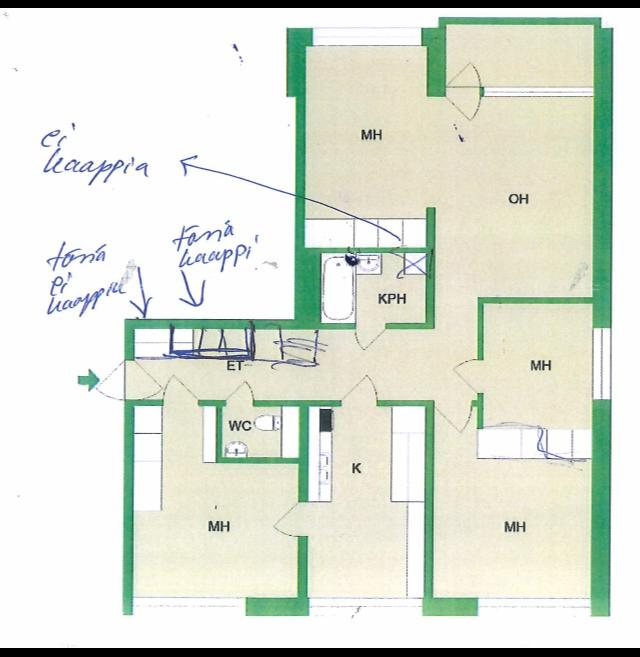bathroom: (318, 252, 424, 326), (218, 403, 284, 461)
door: (91, 360, 132, 412), (124, 357, 162, 407), (271, 497, 306, 547), (335, 373, 380, 410), (156, 377, 204, 410), (441, 89, 487, 123), (432, 398, 475, 434), (446, 58, 485, 94), (454, 356, 485, 399), (350, 320, 391, 352), (220, 379, 256, 412)
perimeter: (124, 19, 614, 618)
window: (310, 22, 430, 56), (474, 592, 596, 616), (126, 595, 251, 618), (584, 320, 614, 411), (303, 596, 427, 614)
